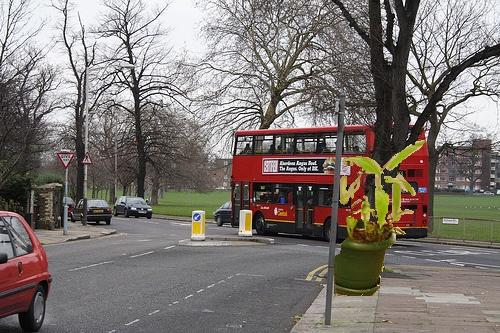tampered: (136, 141, 426, 296)
